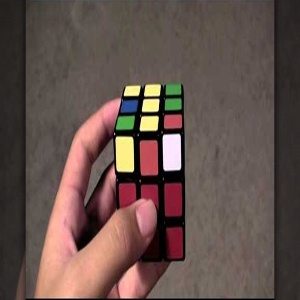cube: (113, 84, 186, 262)
